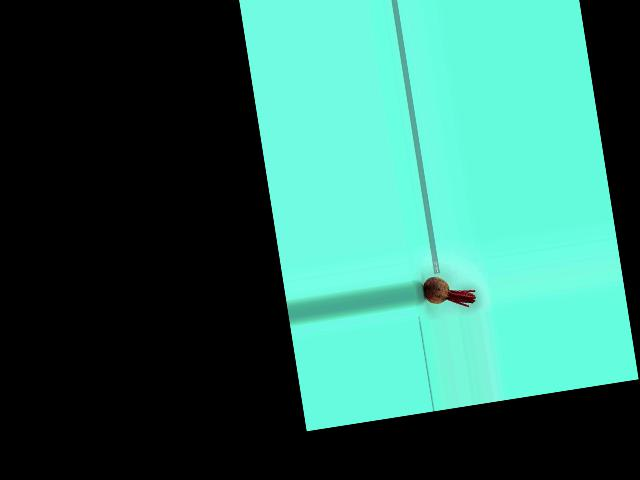beet: (421, 270, 477, 312)
